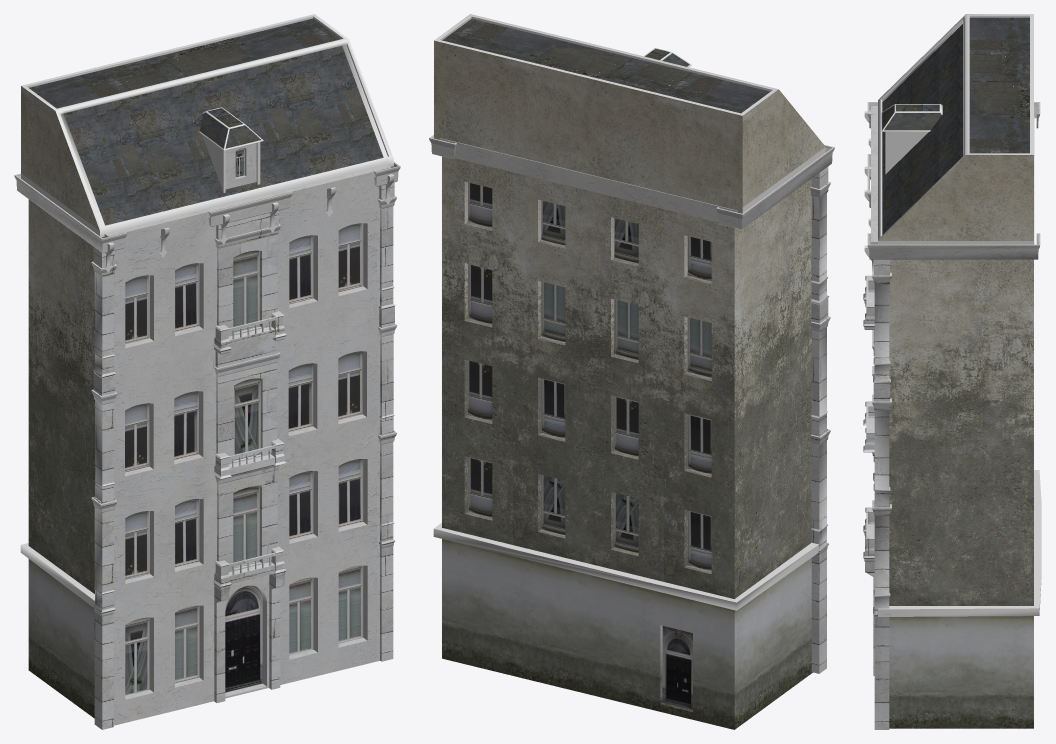
The model's file is 3 Story Flat.fbx.
The picture shows the model from 3 angles, left to right: view 1: azimuth 30°, elevation 25°; view 2: azimuth 150°, elevation 25°; view 3: azimuth 270°, elevation 25°; orthographic projection. The views are drawn at different scales.
Visible parts, largest first — view 1: EHS01_Main, EHS01_Ligh, EHS01_Wind, EHS01_RooT, EHS01_Bac0, EHS01_Whit, EHS01_Roof, EHS01_Wall, EHS01_Door; view 2: EHS01_Bac0, EHS01_Wall, EHS01_Back, EHS01_Roof, EHS01_Whit, EHS01_Ligh, EHS01_Main, EHS01_Bac1; view 3: EHS01_Bac0, EHS01_Wall, EHS01_RooT, EHS01_Ligh, EHS01_Roof, EHS01_Whit, EHS01_Main.
Boxes of the visible parts, x1,y1,x2,y2 form: EHS01_Main: (14, 143, 400, 725); EHS01_Ligh: (91, 182, 397, 729); EHS01_Wind: (125, 148, 363, 695); EHS01_RooT: (64, 46, 383, 225); EHS01_Bac0: (21, 86, 107, 593); EHS01_Whit: (20, 14, 394, 607); EHS01_Roof: (29, 18, 341, 127); EHS01_Wall: (28, 559, 94, 718); EHS01_Door: (225, 585, 262, 692); EHS01_Bac0: (434, 40, 825, 598); EHS01_Wall: (442, 539, 812, 729); EHS01_Back: (468, 182, 711, 570); EHS01_Roof: (442, 19, 770, 113); EHS01_Whit: (433, 14, 825, 610); EHS01_Ligh: (810, 166, 830, 673); EHS01_Main: (429, 135, 834, 229); EHS01_Bac1: (662, 626, 692, 709); EHS01_Bac0: (878, 155, 1033, 605); EHS01_Wall: (889, 616, 1033, 728); EHS01_RooT: (882, 24, 962, 234); EHS01_Ligh: (863, 259, 891, 729); EHS01_Roof: (896, 17, 1029, 153); EHS01_Whit: (864, 14, 1041, 616); EHS01_Main: (867, 102, 1040, 259).
Bounding box in the file's own units: 18.18 × 34.11 × 9.57.
8 materials, 7 textured.
